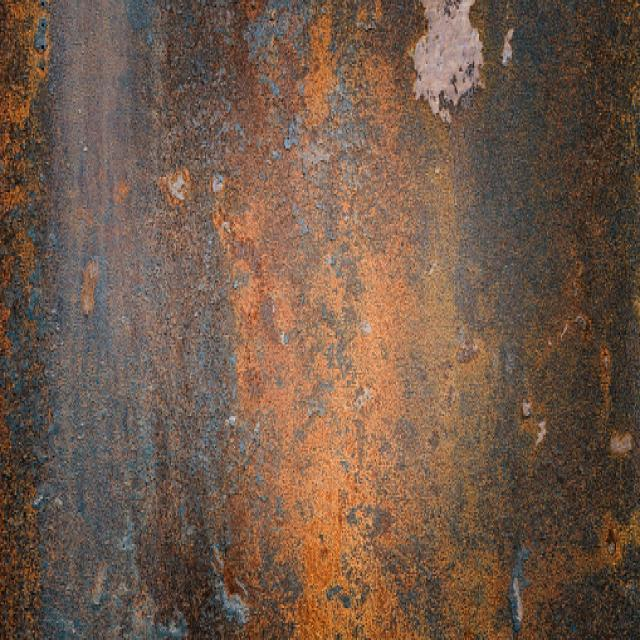corrosion: (181, 4, 409, 640), (54, 0, 180, 640), (516, 0, 640, 640), (412, 124, 516, 640), (2, 0, 51, 640), (411, 0, 516, 121)
